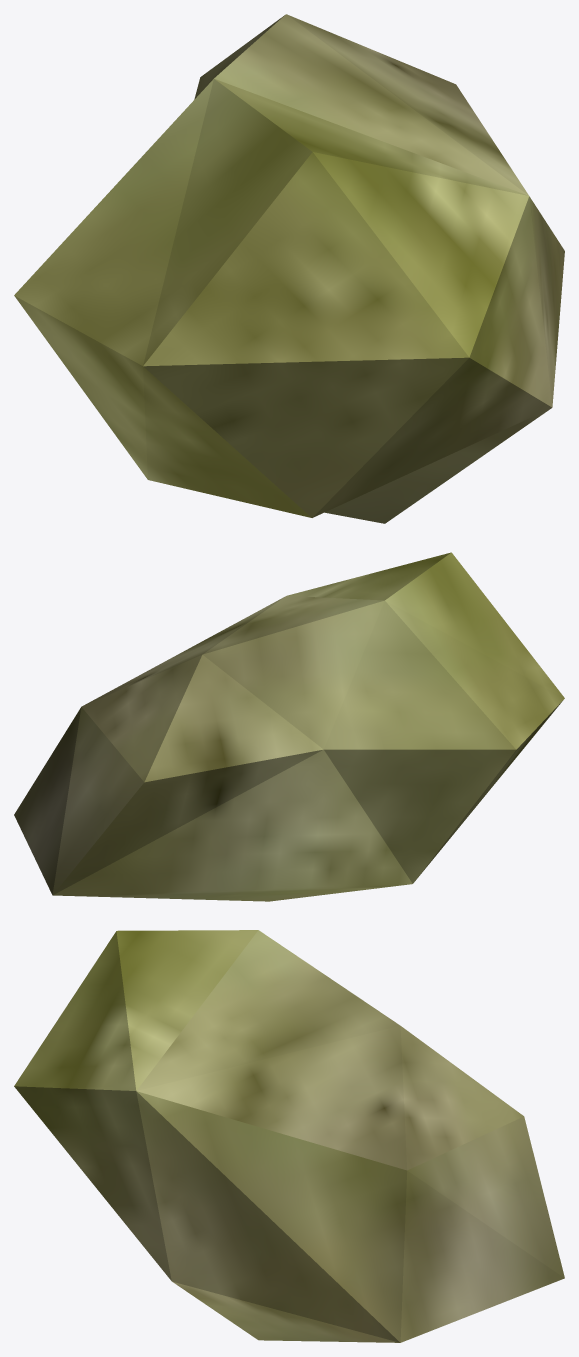
3 renders of one model, top to bottom at view 1: azimuth 30°, elevation 25°; view 2: azimuth 150°, elevation 25°; view 3: azimuth 270°, elevation 25°, orthographic. The views are drawn at different scales.
Bounding box in the file's own units: 0.2871 × 0.2065 × 0.2944.
1 material, 1 textured.
